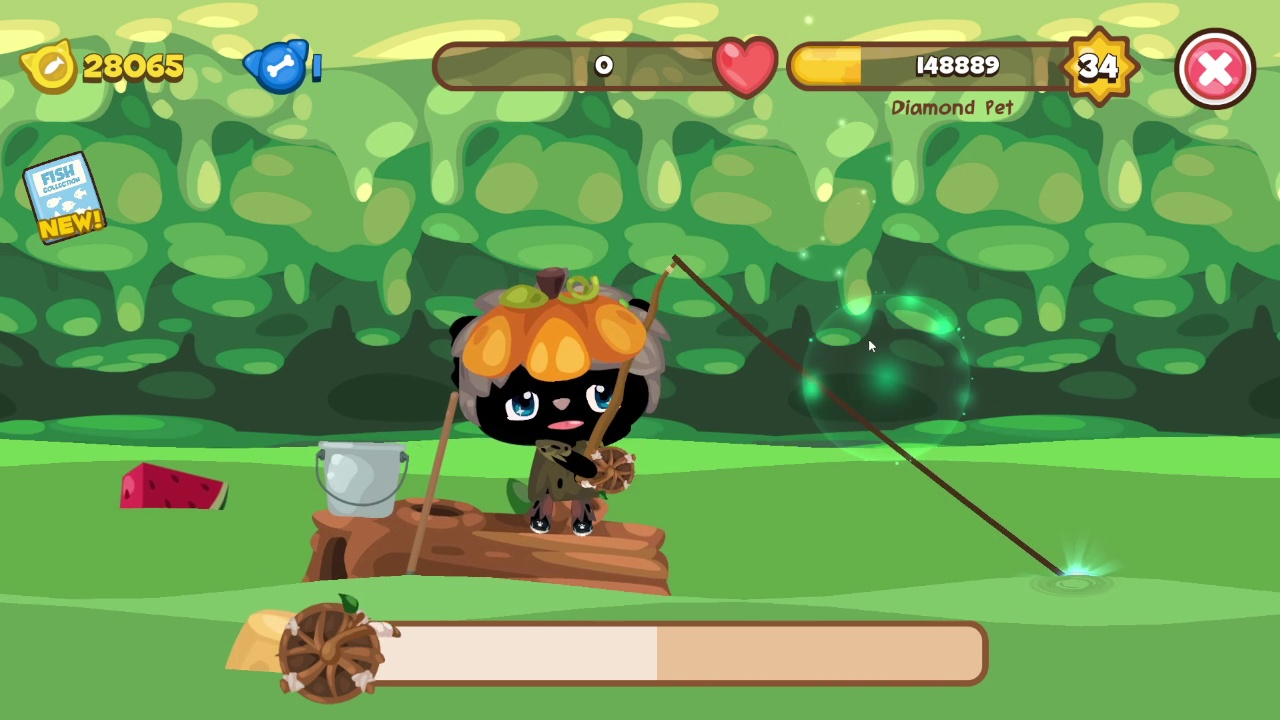point: (802, 292, 972, 456)
